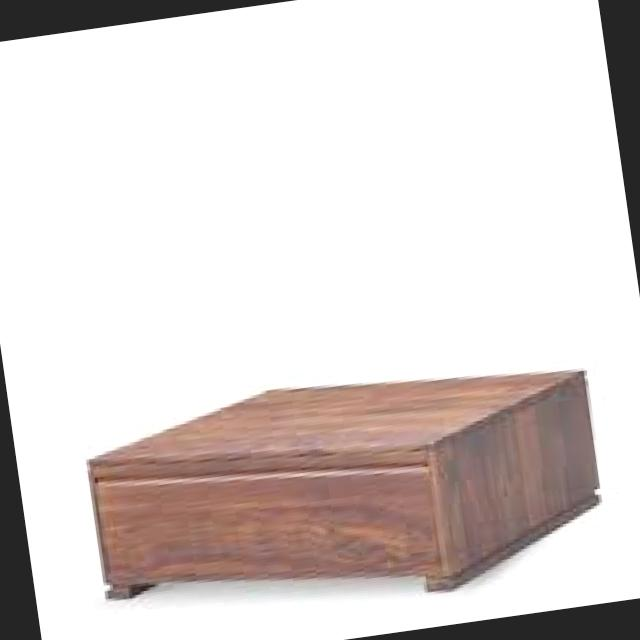obstacle: (37, 293, 628, 634)
